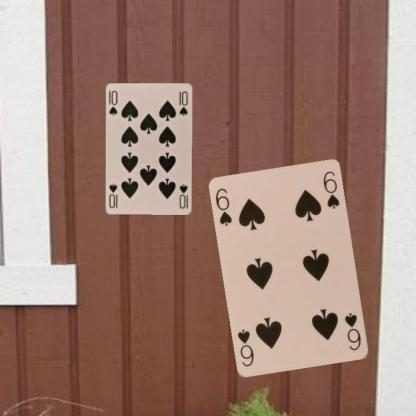10s: (177, 181, 189, 210), (107, 89, 118, 118)
6s: (342, 310, 363, 352), (214, 186, 234, 228)
